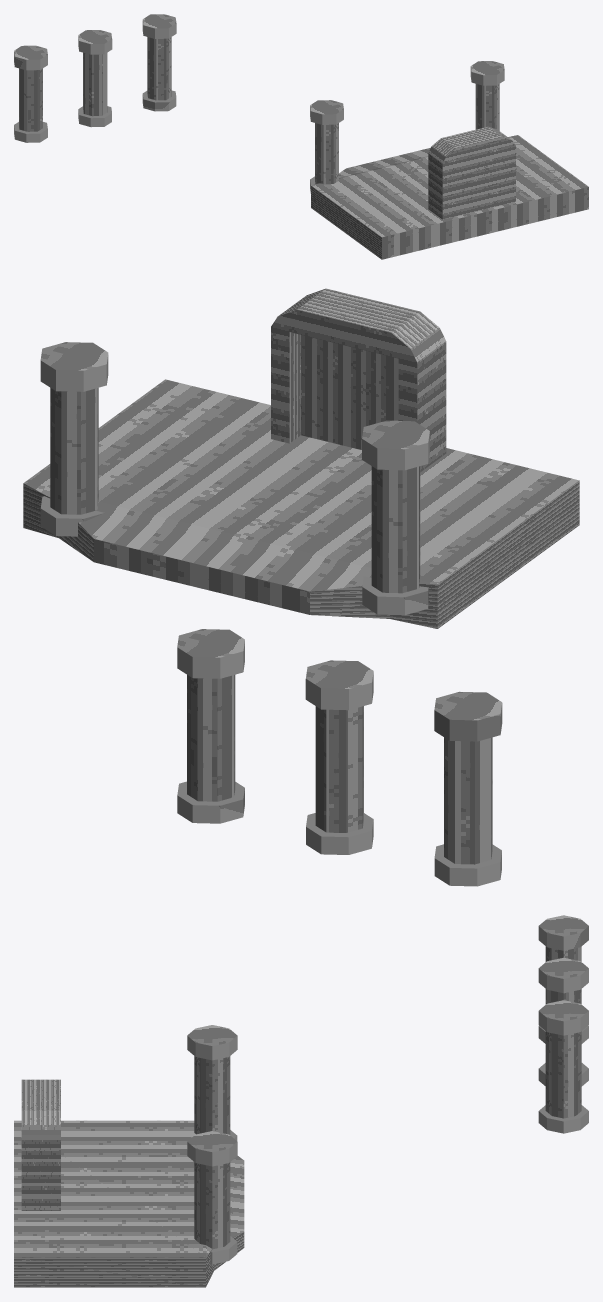
The model's file is goldpillar.obj.
3 renders of one model, top to bottom at view 1: azimuth 30°, elevation 25°; view 2: azimuth 150°, elevation 25°; view 3: azimuth 270°, elevation 25°, orthographic. The views are drawn at different scales.
Visible parts, largest first — view 1: Cube.008, Cube.009, Cube.002_Cube, Cube.003_Cube.002, Cube.005_Cube.003, Cube.006_Cube.004, Cube.007; view 2: Cube.008, Cube.009, Cube.003_Cube.002, Cube.005_Cube.003, Cube.002_Cube, Cube.006_Cube.004, Cube.007; view 3: Cube.008, Cube.002_Cube, Cube.009, Cube.007, Cube.006_Cube.004, Cube.003_Cube.002, Cube.005_Cube.003.
Part boxes in pixels (x1=…): Cube.008: x1=311, y1=135, x2=588, y2=259; Cube.009: x1=428, y1=126, x2=515, y2=219; Cube.002_Cube: x1=142, y1=14, x2=176, y2=111; Cube.003_Cube.002: x1=78, y1=30, x2=112, y2=127; Cube.005_Cube.003: x1=14, y1=45, x2=47, y2=142; Cube.006_Cube.004: x1=310, y1=100, x2=343, y2=193; Cube.007: x1=470, y1=61, x2=504, y2=130; Cube.008: x1=23, y1=379, x2=579, y2=628; Cube.009: x1=271, y1=288, x2=446, y2=472; Cube.003_Cube.002: x1=305, y1=660, x2=373, y2=854; Cube.005_Cube.003: x1=434, y1=691, x2=502, y2=886; Cube.002_Cube: x1=177, y1=629, x2=244, y2=823; Cube.006_Cube.004: x1=362, y1=420, x2=429, y2=615; Cube.007: x1=40, y1=342, x2=108, y2=536; Cube.008: x1=14, y1=1120, x2=244, y2=1287; Cube.002_Cube: x1=538, y1=1000, x2=588, y2=1133; Cube.009: x1=21, y1=1079, x2=60, y2=1210; Cube.007: x1=187, y1=1131, x2=237, y2=1264; Cube.006_Cube.004: x1=187, y1=1025, x2=237, y2=1140; Cube.003_Cube.002: x1=538, y1=957, x2=588, y2=1086; Cube.005_Cube.003: x1=538, y1=915, x2=588, y2=1043.
Size of the model in its own units: 34.61 by 8.42 by 34.36.
